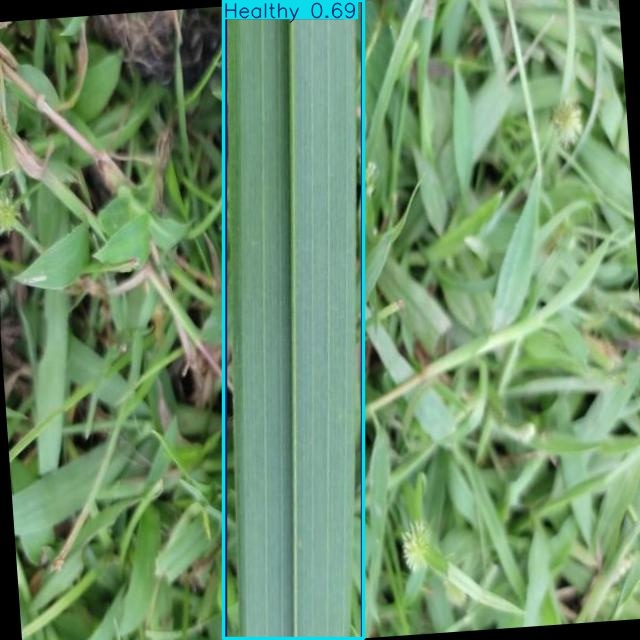Healthy: (223, 1, 364, 639)
nitrogen: (225, 1, 362, 640)
